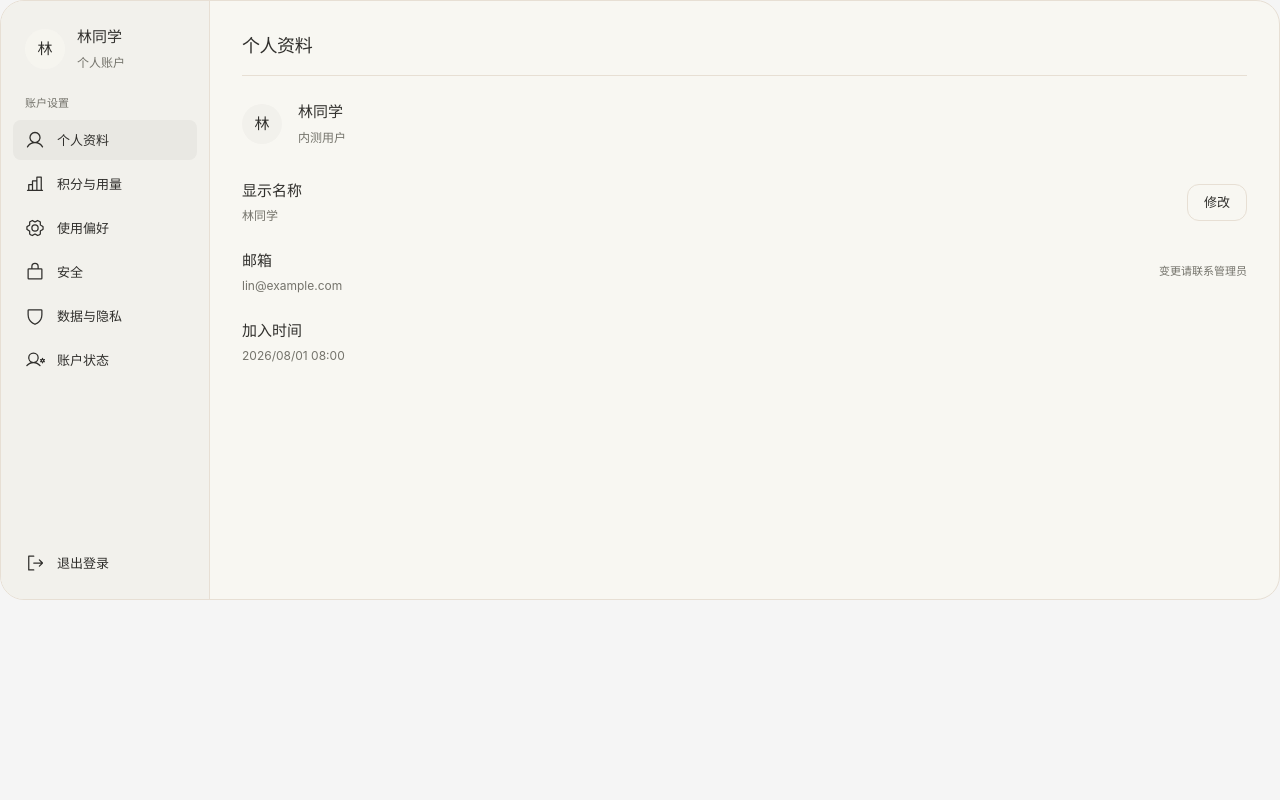
Scenario: AccountSettingsPage › redeems one code and refreshes the visible credit balance
Expected: the heading "账户设置" is shown, 25,96 -> 69,110
Click the button "积分与用量".
click(105, 184)  # box 13,164 -> 197,204
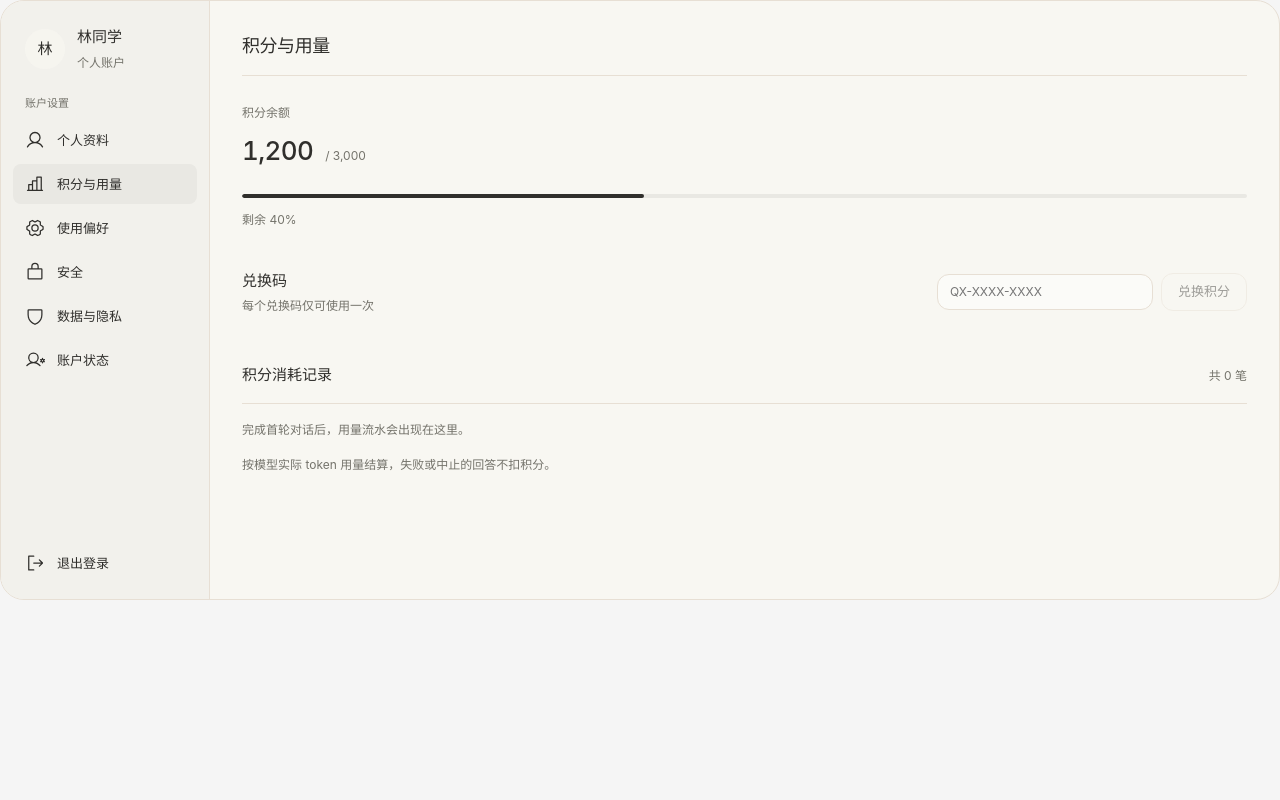
Type "QX-7KDM-4XJP-9TWR-P6AC" into the field named "积分兑换码".
click(1045, 292); type("QX-7KDM-4XJP-9TWR-P6AC")  # box 937,274 -> 1153,310
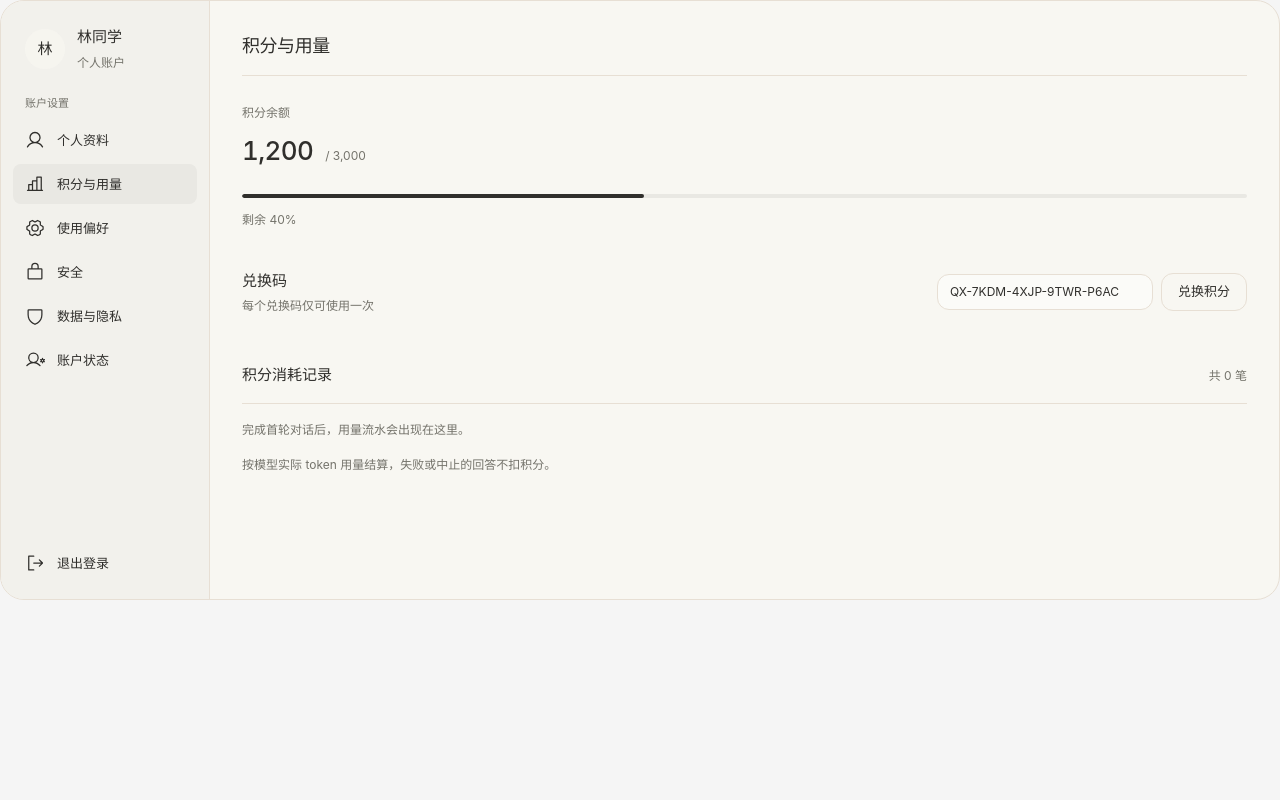
Click the button "兑换积分".
click(1204, 292)  # box 1161,273 -> 1247,311
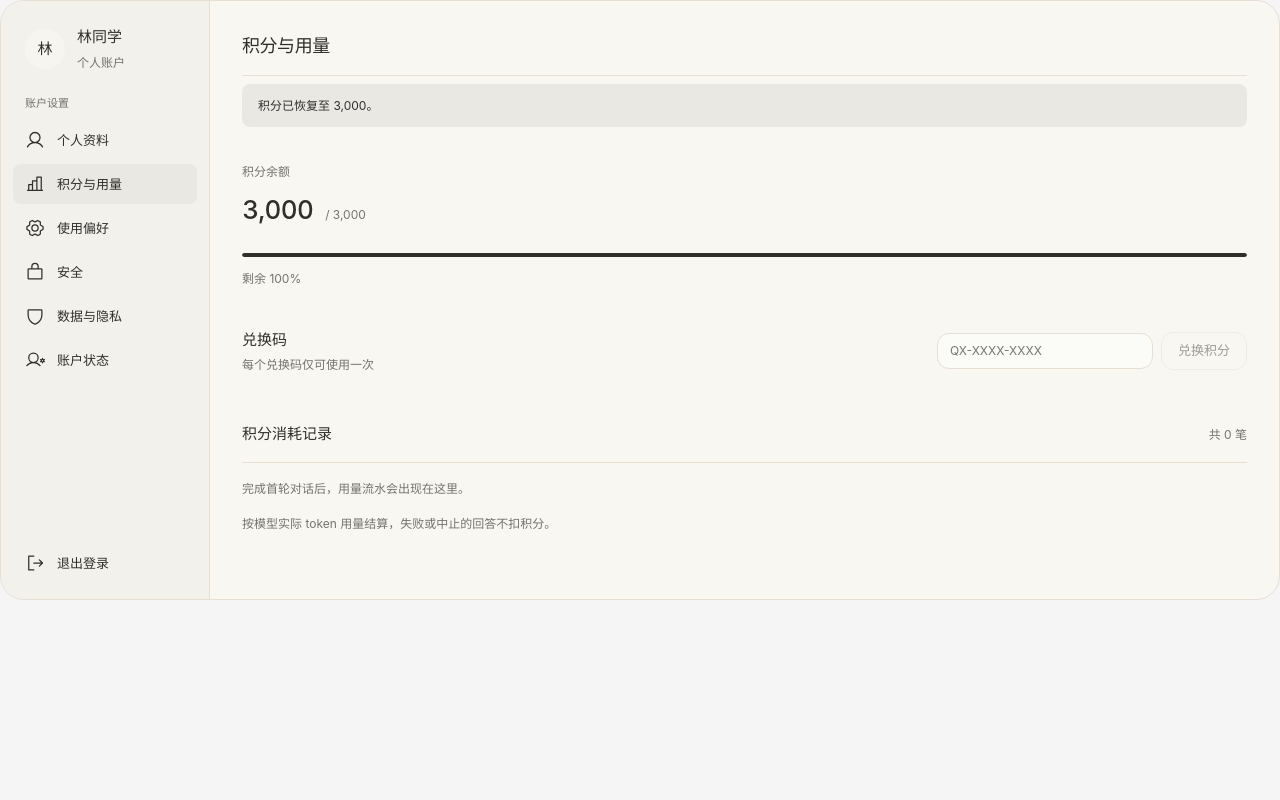
Expected: the element named "积分余额数值" reads "3,000 / 3,000", 242,194 -> 366,225
Expected: the message shows "积分已恢复至 3,000", 258,98 -> 378,113
